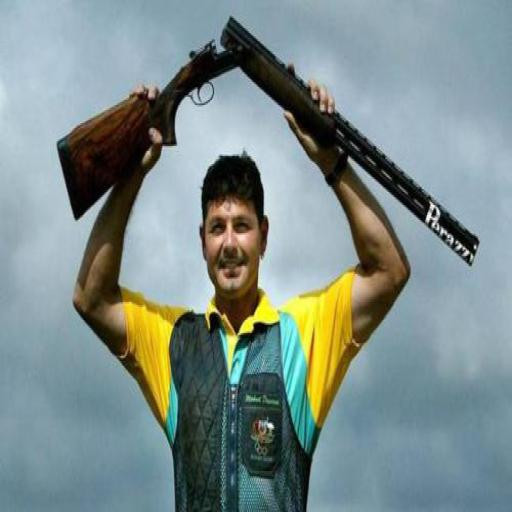shooting: (70, 69, 414, 510)
